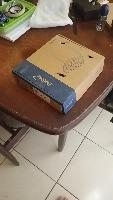damaged package: (52, 69, 68, 79), (84, 52, 94, 59), (56, 39, 66, 45)
undamaged: (10, 30, 104, 116)
